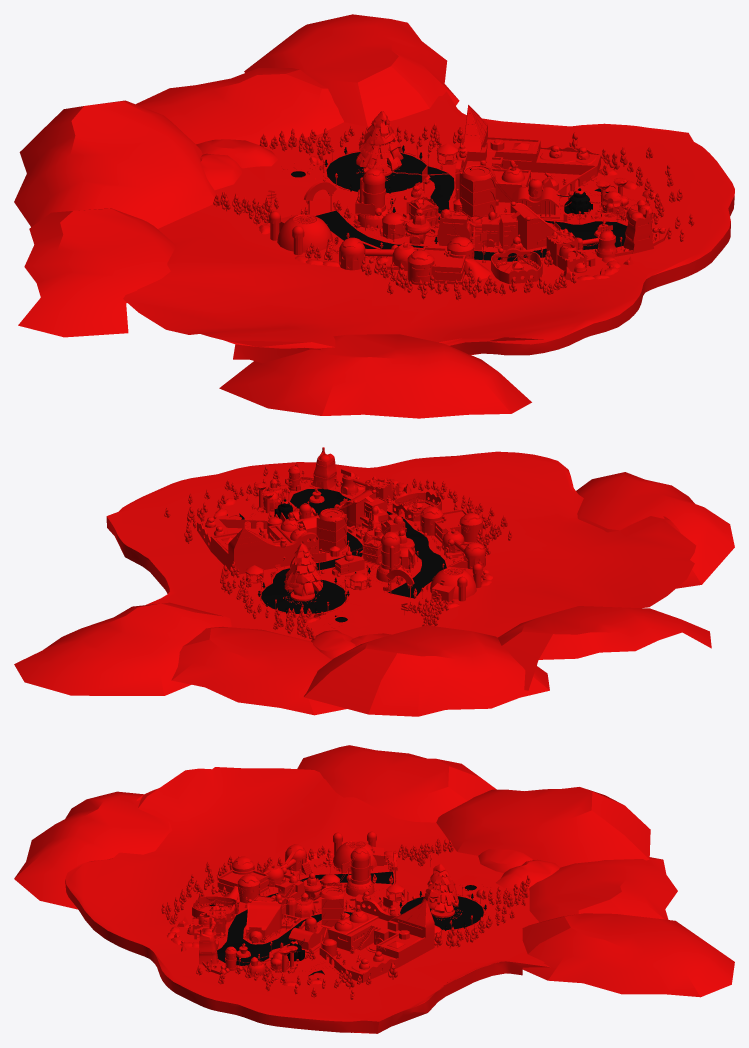
Rendered from Individual_PenguPlaza_Summer_01.glb.
The picture shows the model from 3 angles, top to bottom: view 1: azimuth 30°, elevation 25°; view 2: azimuth 150°, elevation 25°; view 3: azimuth 270°, elevation 25°; orthographic projection. The views are drawn at different scales.
Visible parts, largest first — view 1: polySurface262, pasted__SnowPatch23, pasted__SnowPatch17, pasted__SnowPatch22, pasted__SnowPatch25, pasted__SnowPatch24, pasted__pasted__polySurface204, polySurface260, polySurface194, Tree_54, pCylinder31, pasted__pasted__SnowPatch18 (+10 smaller); view 2: polySurface262, pasted__SnowPatch23, pasted__SnowPatch25, pasted__SnowPatch24, pasted__SnowPatch22, pasted__SnowPatch17, pasted__pasted__polySurface204, polySurface194, polySurface260, Tree_54, pCylinder31, pCube113 (+9 smaller); view 3: polySurface262, pasted__SnowPatch25, pasted__SnowPatch23, pasted__SnowPatch22, pasted__SnowPatch17, pasted__SnowPatch24, pasted__pasted__polySurface204, pasted__typeMesh2, polySurface260, Tree_54, pasted__pasted__SnowPatch18, polySurface194 (+10 smaller).
Part boxes in pixels (box(x1,y1,x2,y2)): polySurface262: box(123, 91, 734, 363); pasted__SnowPatch23: box(14, 100, 215, 228); pasted__SnowPatch17: box(219, 334, 531, 418); pasted__SnowPatch22: box(18, 208, 176, 337); pasted__SnowPatch25: box(244, 14, 459, 126); pasted__SnowPatch24: box(136, 68, 343, 147); pasted__pasted__polySurface204: box(455, 105, 600, 202); polySurface260: box(407, 242, 474, 285); polySurface194: box(269, 211, 332, 254); Tree_54: box(356, 111, 403, 172); pCylinder31: box(453, 165, 495, 217); pasted__pasted__SnowPatch18: box(196, 139, 277, 168); polySurface262: box(106, 451, 696, 641); pasted__SnowPatch23: box(304, 625, 549, 716); pasted__SnowPatch25: box(14, 602, 231, 695); pasted__SnowPatch24: box(171, 626, 346, 715); pasted__SnowPatch22: box(498, 606, 711, 690); pasted__SnowPatch17: box(576, 472, 734, 588); pasted__pasted__polySurface204: box(197, 512, 318, 574); polySurface194: box(430, 563, 482, 602); polySurface260: box(420, 509, 482, 542); Tree_54: box(284, 544, 322, 596); pCylinder31: box(316, 508, 346, 556); pCube113: box(442, 528, 485, 569); polySurface262: box(65, 767, 550, 1033); pasted__SnowPatch25: box(522, 913, 734, 997); pasted__SnowPatch23: box(436, 787, 650, 867); pasted__SnowPatch22: box(297, 745, 496, 822); pasted__SnowPatch17: box(14, 791, 172, 909); pasted__SnowPatch24: box(529, 857, 677, 922); pasted__pasted__polySurface204: box(319, 899, 434, 982); pasted__typeMesh2: box(246, 895, 325, 942); polySurface260: box(217, 861, 268, 903); Tree_54: box(421, 864, 458, 913); pasted__pasted__SnowPatch18: box(496, 859, 560, 888); polySurface194: box(333, 831, 383, 871).
Size of the model in its own units: 190 by 28.36 by 207.
